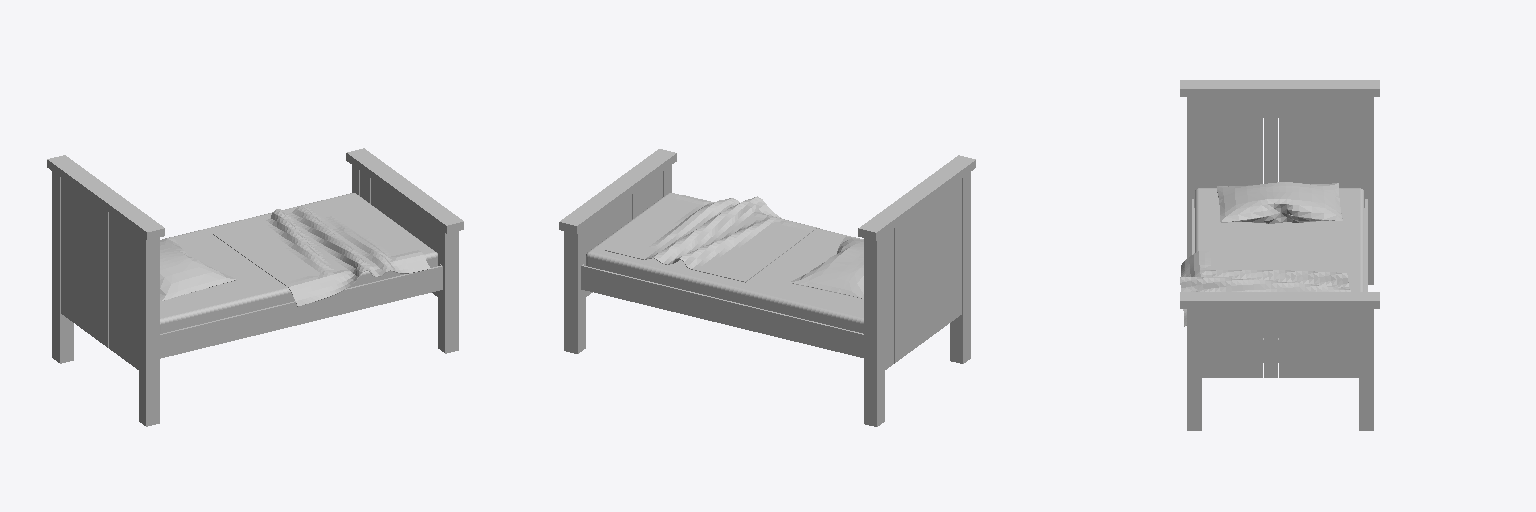
The model's file is wooden bed.obj.
3 views of the same model, side by side, from view 1: azimuth 30°, elevation 25°; view 2: azimuth 150°, elevation 25°; view 3: azimuth 270°, elevation 25° (orthographic).
Parts seen in each view (by area): view 1: uploads-files-[number redacted]-Old_bed; view 2: uploads-files-[number redacted]-Old_bed; view 3: uploads-files-[number redacted]-Old_bed.
Part boxes in pixels (bbox=[...]): uploads-files-[number redacted]-Old_bed: bbox=[47, 148, 463, 426]; uploads-files-[number redacted]-Old_bed: bbox=[559, 149, 975, 426]; uploads-files-[number redacted]-Old_bed: bbox=[1180, 80, 1379, 430].
Bounding box in the file's own units: 319 × 190 × 175.